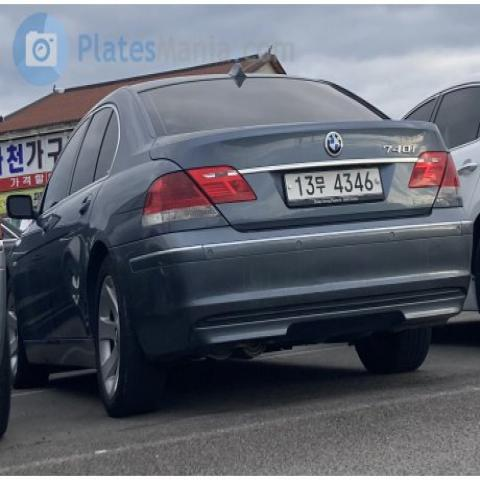LP: (274, 156, 388, 216)
